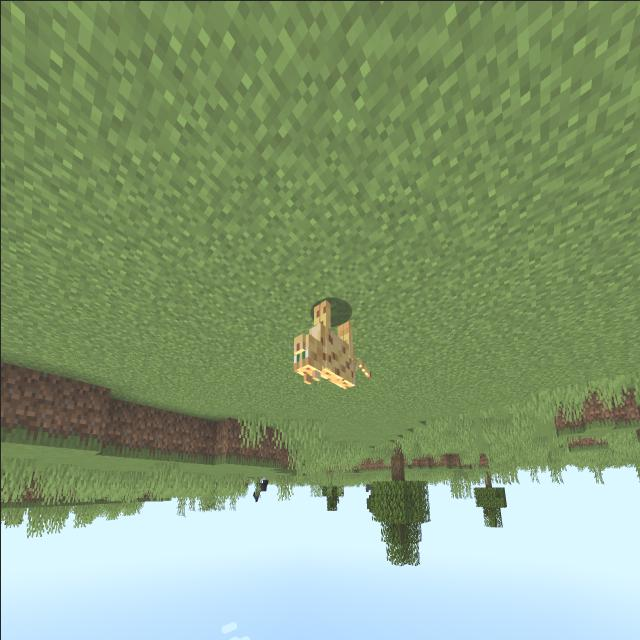Ocelot: (286, 282, 376, 396)
